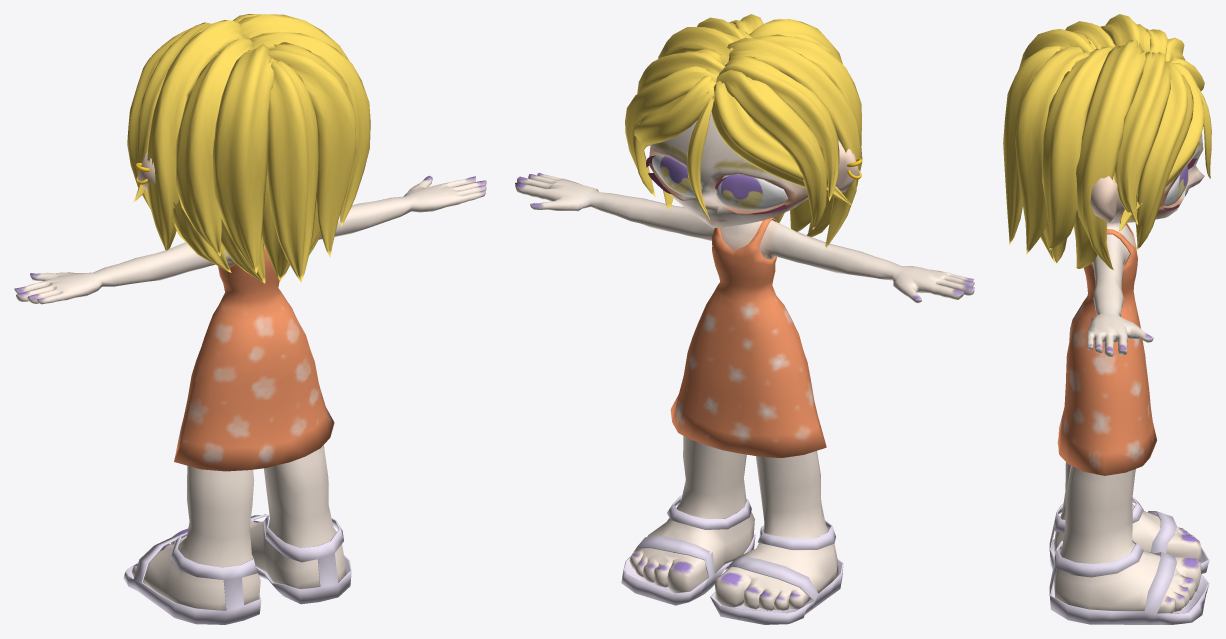
The model's file is девушкаиз пары нормальных.fbx.
3 renders of one model, left to right at view 1: azimuth 30°, elevation 25°; view 2: azimuth 150°, elevation 25°; view 3: azimuth 270°, elevation 25°, orthographic. The views are drawn at different scales.
Parts seen in each view (by area): view 1: NurbsPath.001, Roundcube, Roundcube.001, Roundcube.002, NurbsPath; view 2: Roundcube, Roundcube.001, NurbsPath, NurbsPath.001, Roundcube.002, Sphere; view 3: NurbsPath.001, Roundcube, Roundcube.001, NurbsPath, Roundcube.002, Sphere.
Part boxes in pixels (left/top/right/bottom): NurbsPath.001: left=146, top=14, right=370, bottom=283; Roundcube: left=14, top=53, right=486, bottom=610; Roundcube.001: left=174, top=245, right=334, bottom=471; Roundcube.002: left=123, top=514, right=351, bottom=624; NurbsPath: left=127, top=14, right=261, bottom=208; Roundcube: left=515, top=52, right=974, bottom=610; Roundcube.001: left=670, top=217, right=826, bottom=457; NurbsPath: left=625, top=49, right=851, bottom=229; NurbsPath.001: left=658, top=14, right=862, bottom=247; Roundcube.002: left=621, top=495, right=843, bottom=624; Sphere: left=652, top=154, right=788, bottom=210; NurbsPath.001: left=1003, top=14, right=1150, bottom=270; Roundcube: left=1054, top=133, right=1204, bottom=613; Roundcube.001: left=1057, top=223, right=1156, bottom=475; NurbsPath: left=1114, top=28, right=1211, bottom=249; Roundcube.002: left=1049, top=497, right=1209, bottom=624; Sphere: left=1164, top=165, right=1188, bottom=205.
Size of the model in its own units: 386 by 445 by 152.
